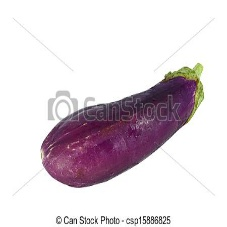eggplant: (36, 72, 205, 187)
